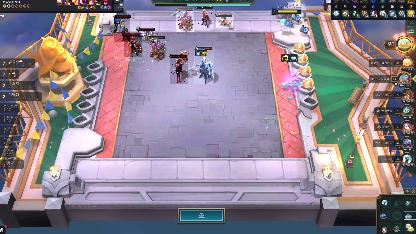1_ezreal: (114, 16, 130, 42)
1_lillia: (170, 54, 188, 84)
1_rakan: (124, 33, 142, 57), (196, 6, 214, 28)
1_sejuani: (148, 36, 166, 60), (176, 8, 194, 32)
1_twitch: (216, 14, 234, 28)
2_leona: (194, 46, 214, 84)
2_twitch: (136, 26, 154, 40)
